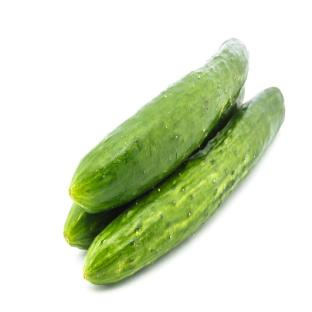Cucumber: (84, 88, 284, 284), (69, 39, 248, 212), (193, 86, 244, 154), (64, 204, 125, 249)
